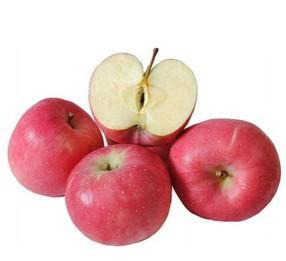apple: (168, 115, 282, 220), (64, 142, 172, 245), (8, 97, 103, 197)
